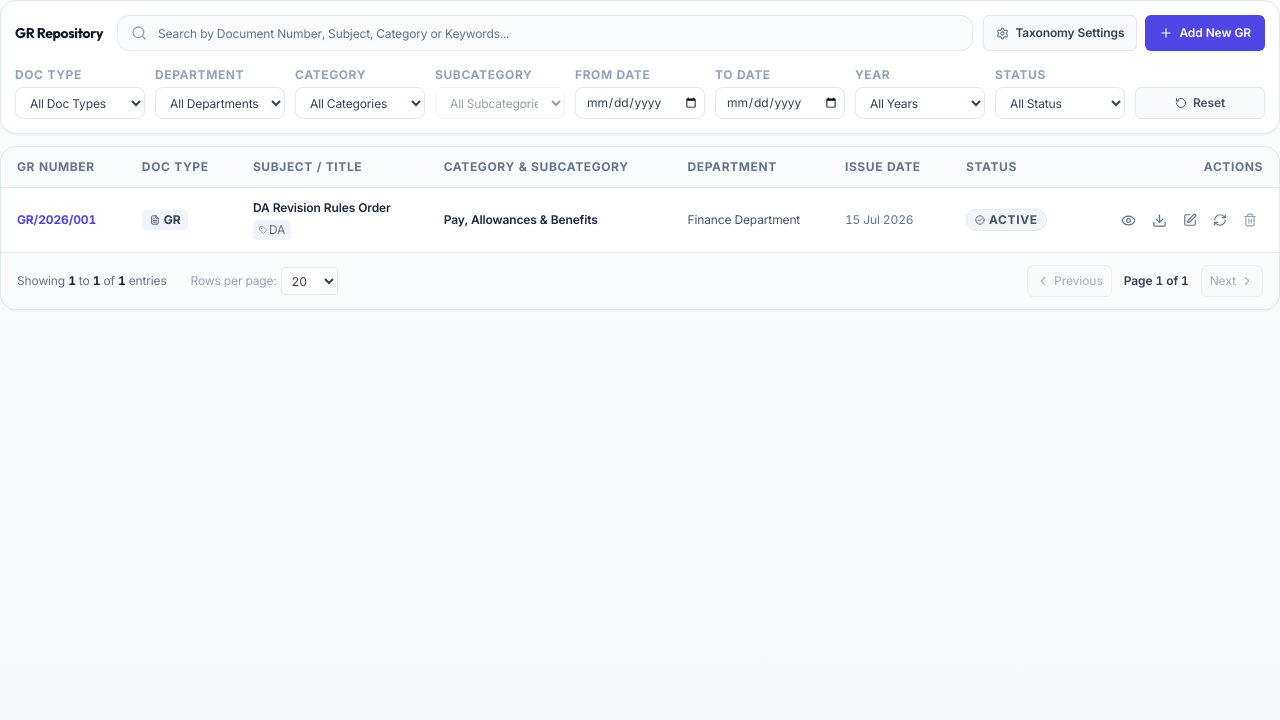
GRListPage › opens the Add GR form modal
Click the button "Add New GR" at (1205, 33), box [1145, 15, 1265, 51]
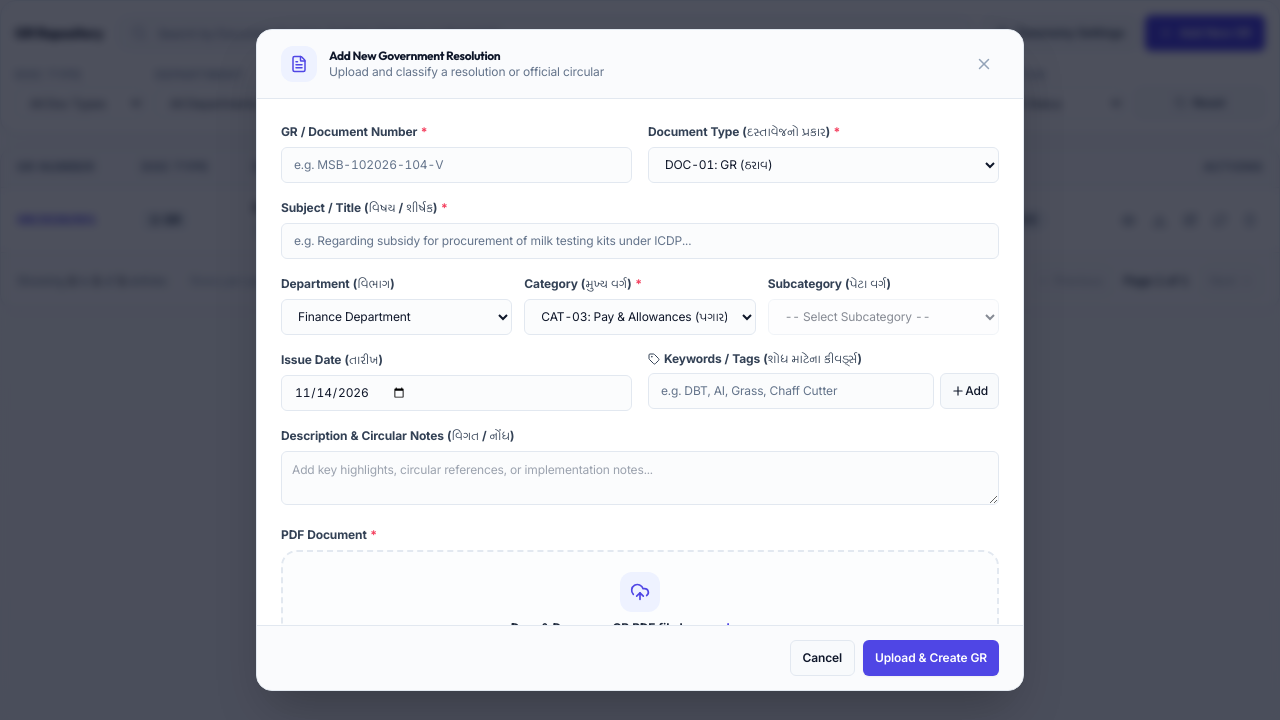
Expected: the heading "Add New Government Resolution" is shown, [329, 48, 500, 63]
Expected: the field labelled "GR / Document Number *" is shown, [281, 147, 632, 183]
